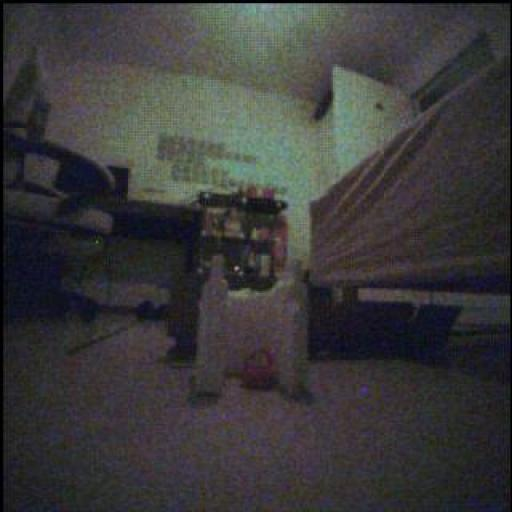basket: (243, 350, 278, 390)
